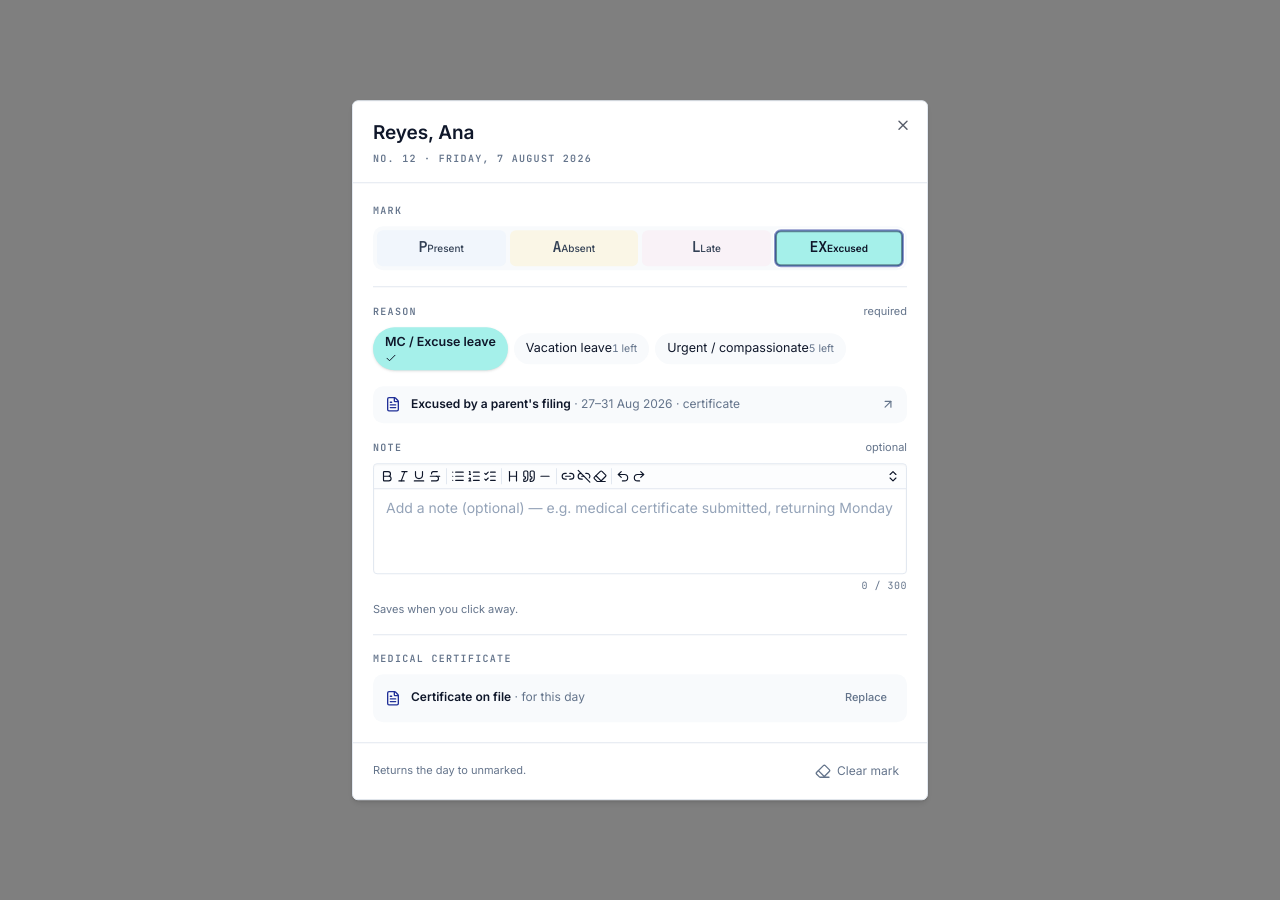
Test: a day a parent filed for › asks before overriding a day the school approved
Step 1. Click the radio button labelled "Absent" → (574, 248), box [510,230,638,266]
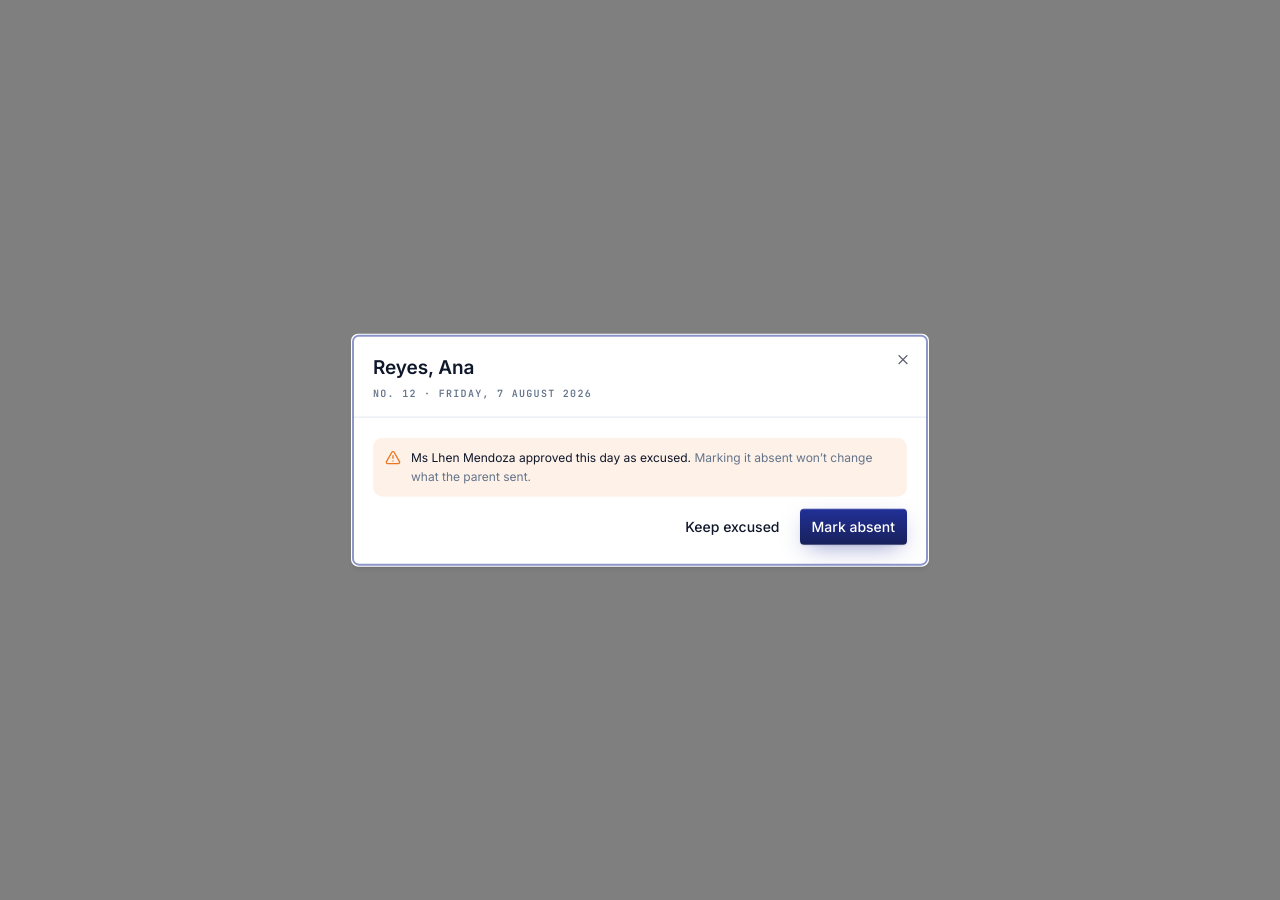
Result: the text "Ms Lhen Mendoza approved this day" is shown at [411,449,691,464]
Result: the text "Marking it absent won’t change what the parent sent." is shown at [411,449,872,484]
